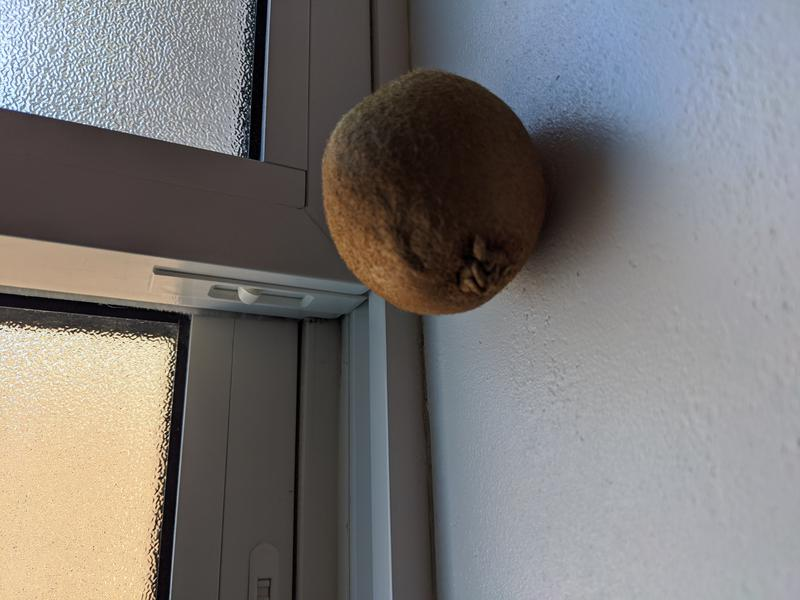kiwi: (318, 68, 550, 317)
